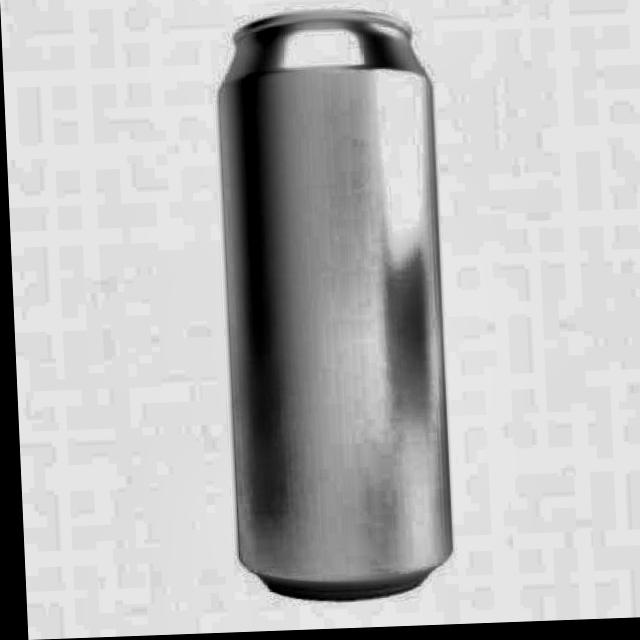can: (208, 1, 464, 609)
